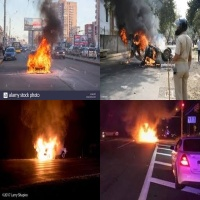fire: (120, 27, 157, 65), (26, 36, 52, 73), (34, 136, 56, 160), (137, 122, 158, 143)
